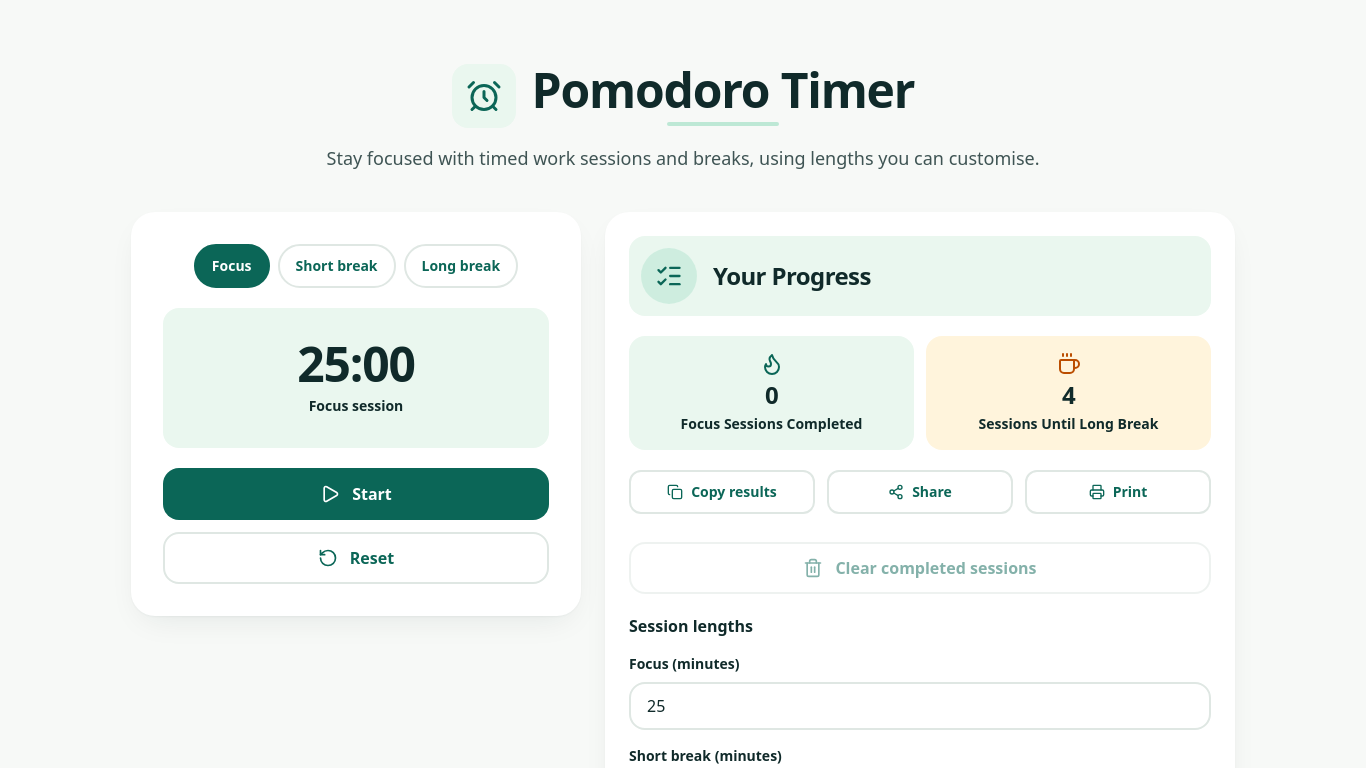
Scenario: Pomodoro Timer › resets the current session without clearing the count
Click the button "Start" at (356, 494), box [163, 468, 549, 520]
Wait 1501000 ms
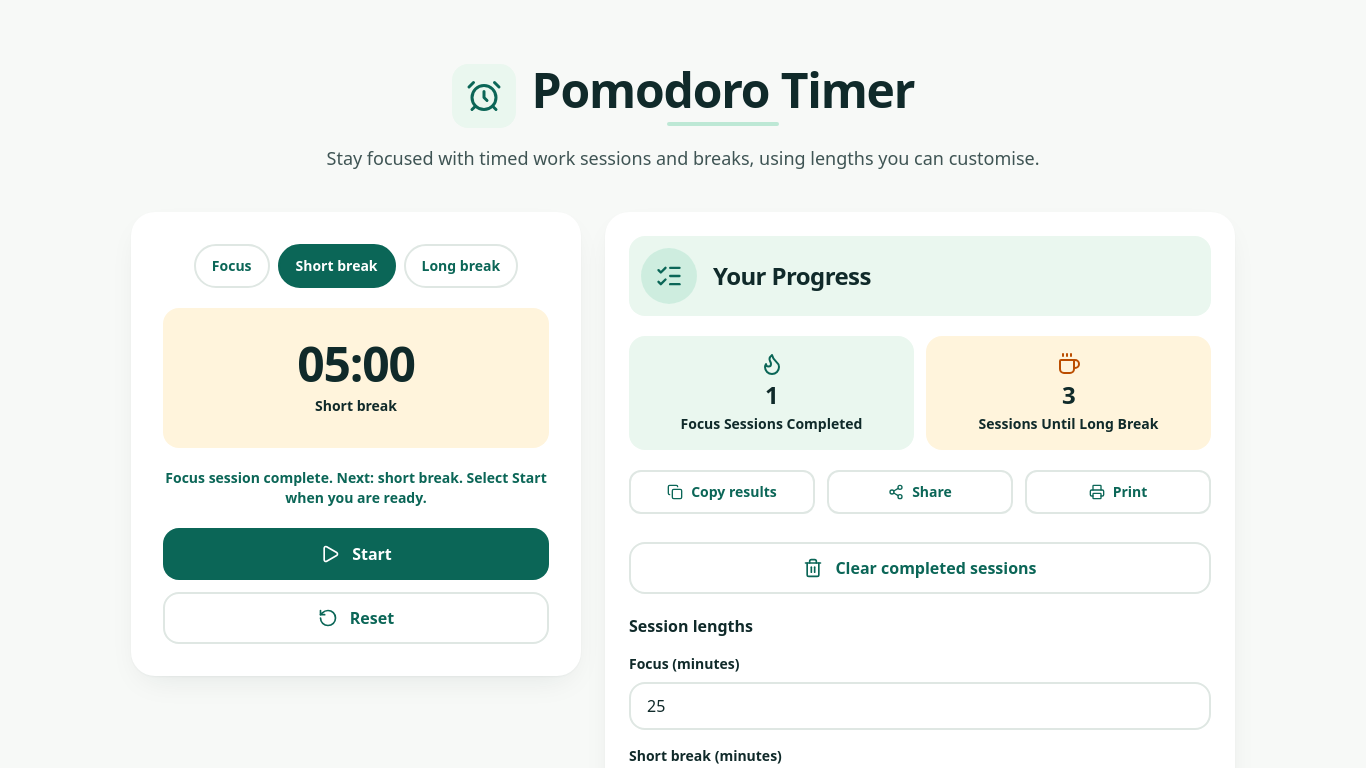
Click the button "Focus" at (232, 266), box [194, 244, 270, 288]
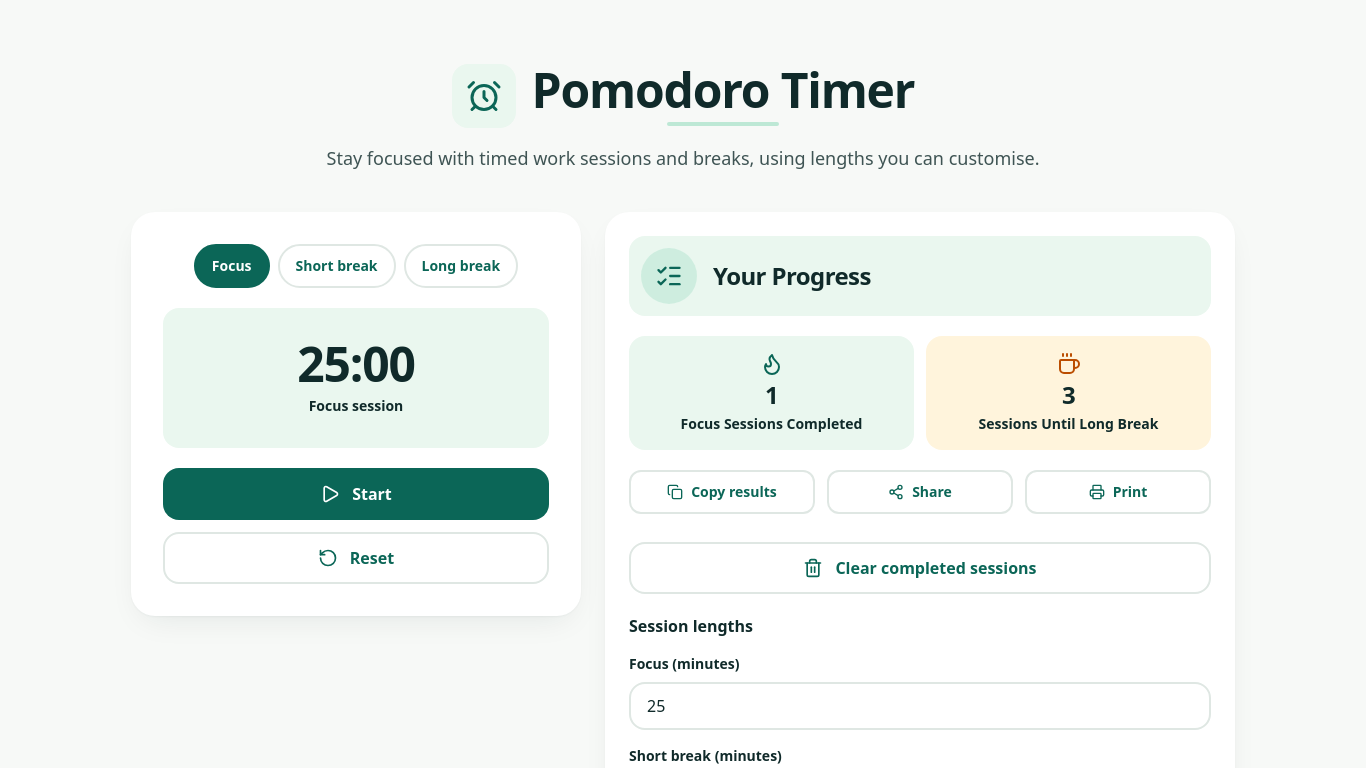
Click the button "Start" at (356, 494), box [163, 468, 549, 520]
Wait 60000 ms
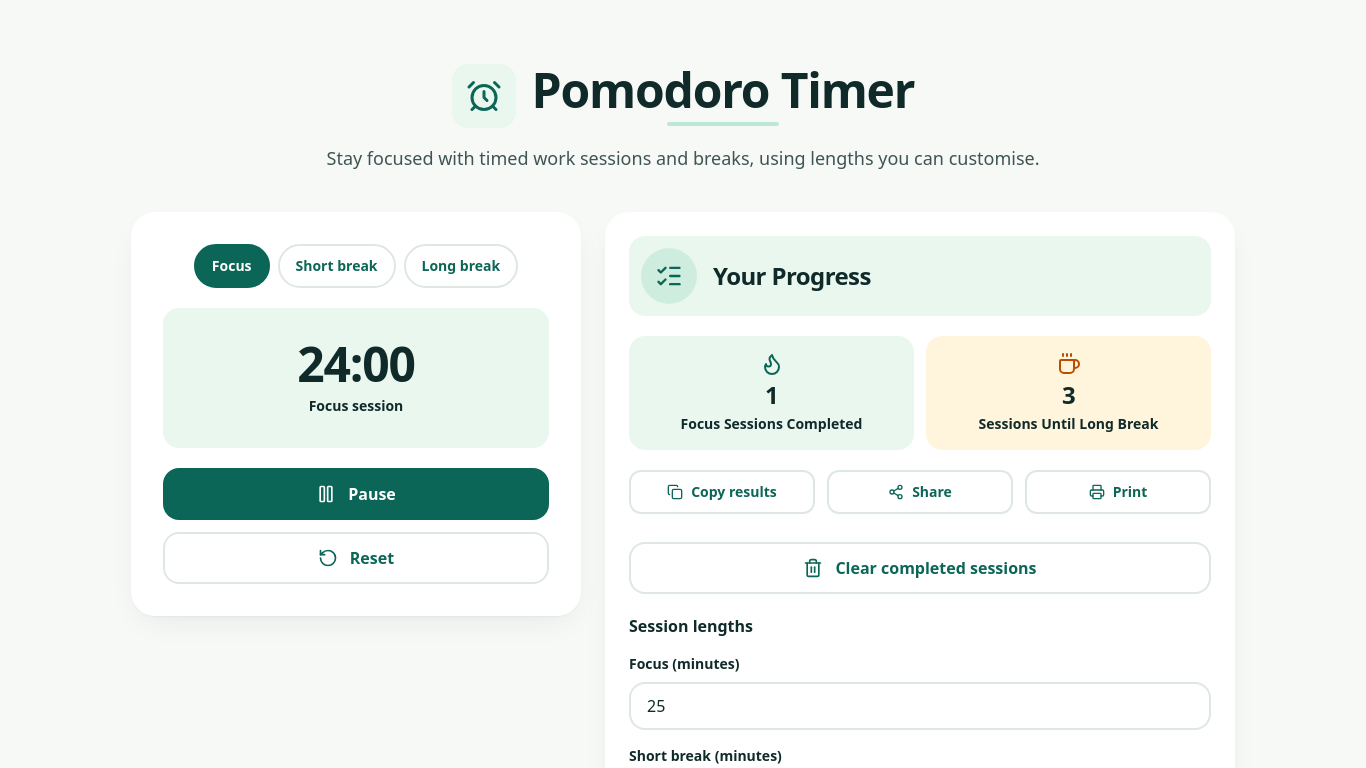
Click the button "Reset" at (356, 558), box [163, 532, 549, 584]
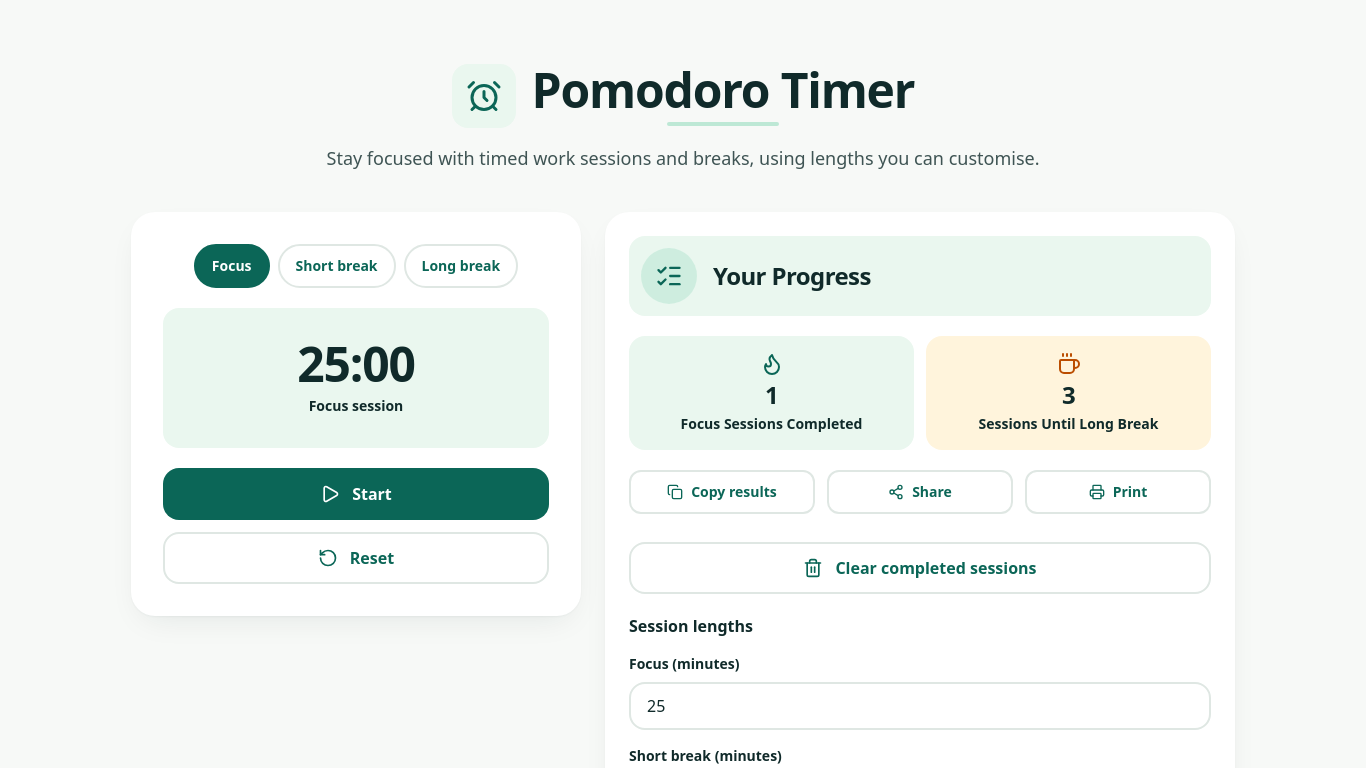
Check: the button "Start" is shown, box [163, 468, 549, 520]
